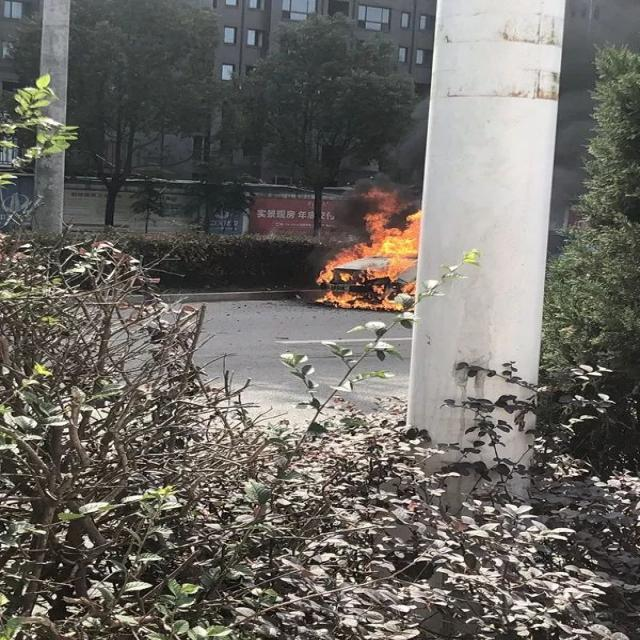Fire: (317, 188, 419, 310)
Smoke: (352, 102, 428, 188)
